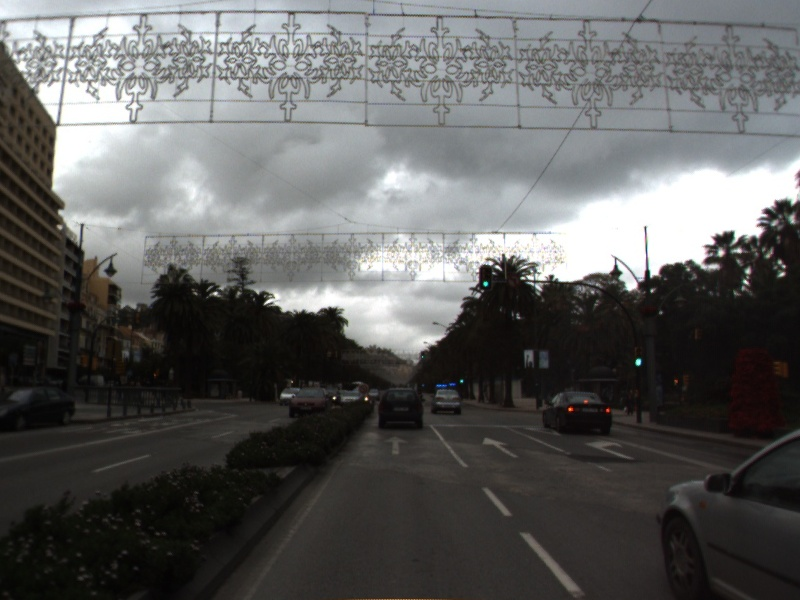RIGHT: (582, 437, 637, 462)
STRAIGHT: (480, 435, 521, 460), (382, 434, 411, 457)
